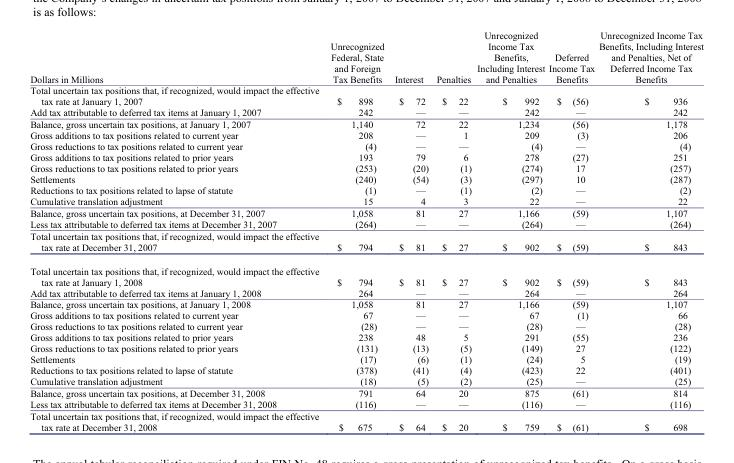table: (29, 28, 702, 431)
table column: (29, 28, 324, 431), (596, 28, 702, 431), (473, 28, 546, 431), (324, 28, 388, 431), (546, 28, 596, 431), (388, 28, 431, 431), (431, 28, 473, 431)
table column header: (29, 28, 702, 84)
table row: (29, 28, 702, 84), (29, 229, 702, 258), (29, 258, 702, 286), (29, 84, 702, 106), (29, 409, 702, 431), (29, 106, 702, 118), (29, 206, 702, 218), (29, 286, 702, 298), (29, 375, 702, 387), (29, 118, 702, 129), (29, 129, 702, 140), (29, 140, 702, 151), (29, 151, 702, 162), (29, 162, 702, 173), (29, 173, 702, 184), (29, 184, 702, 195), (29, 195, 702, 206), (29, 218, 702, 229), (29, 298, 702, 309), (29, 309, 702, 320), (29, 320, 702, 331), (29, 331, 702, 342), (29, 342, 702, 353), (29, 353, 702, 364), (29, 364, 702, 375), (29, 387, 702, 398), (29, 398, 702, 409)
